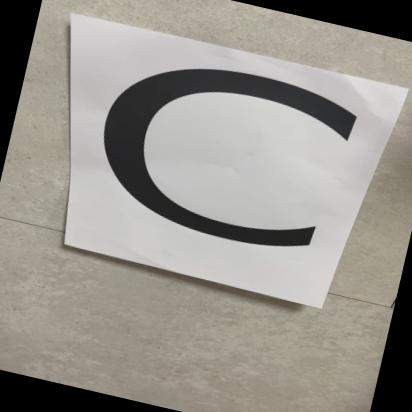seat: (20, 14, 390, 308)
